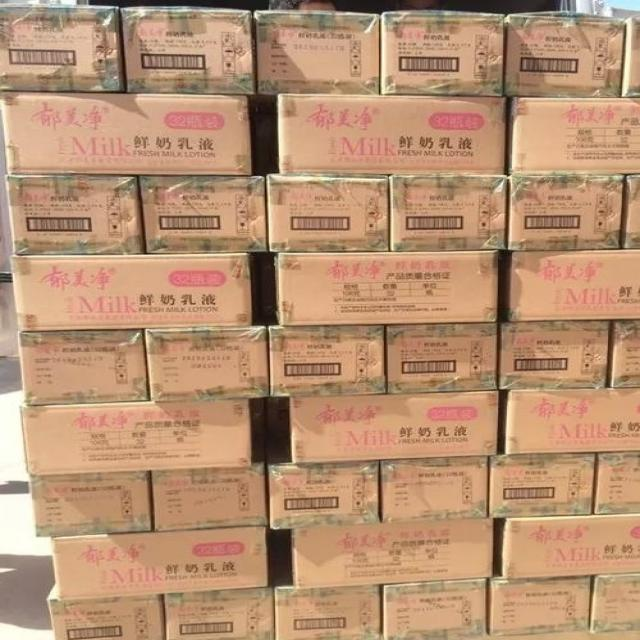box: (1, 90, 253, 175), (10, 252, 255, 332), (276, 93, 504, 175), (20, 398, 252, 475), (275, 250, 499, 326), (52, 526, 269, 602), (288, 391, 498, 465), (291, 517, 493, 588), (120, 5, 257, 94), (148, 435, 268, 532), (5, 175, 145, 256), (379, 8, 504, 97), (252, 9, 380, 94), (265, 434, 380, 528), (0, 5, 125, 91), (503, 12, 626, 98), (508, 96, 640, 175), (138, 175, 268, 254), (507, 247, 640, 322), (265, 172, 389, 251), (18, 329, 148, 404), (143, 325, 269, 401), (504, 386, 640, 455), (502, 513, 640, 579), (388, 175, 507, 251), (507, 175, 625, 250), (269, 324, 388, 397), (385, 321, 499, 394), (29, 472, 154, 536), (499, 320, 609, 390), (379, 455, 489, 524), (46, 580, 165, 640), (489, 453, 598, 518), (381, 577, 490, 640), (488, 576, 593, 639), (163, 586, 275, 640), (274, 585, 381, 640), (593, 452, 640, 514), (590, 574, 640, 631), (607, 320, 640, 387), (618, 174, 640, 247), (621, 15, 640, 97)
